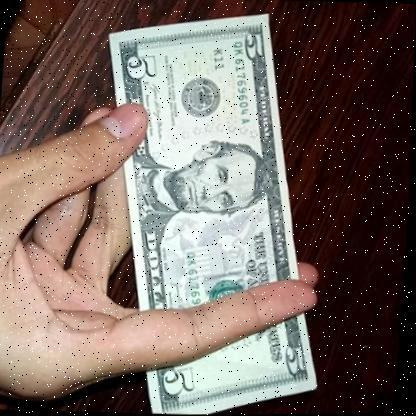five-front: (98, 3, 339, 415)
